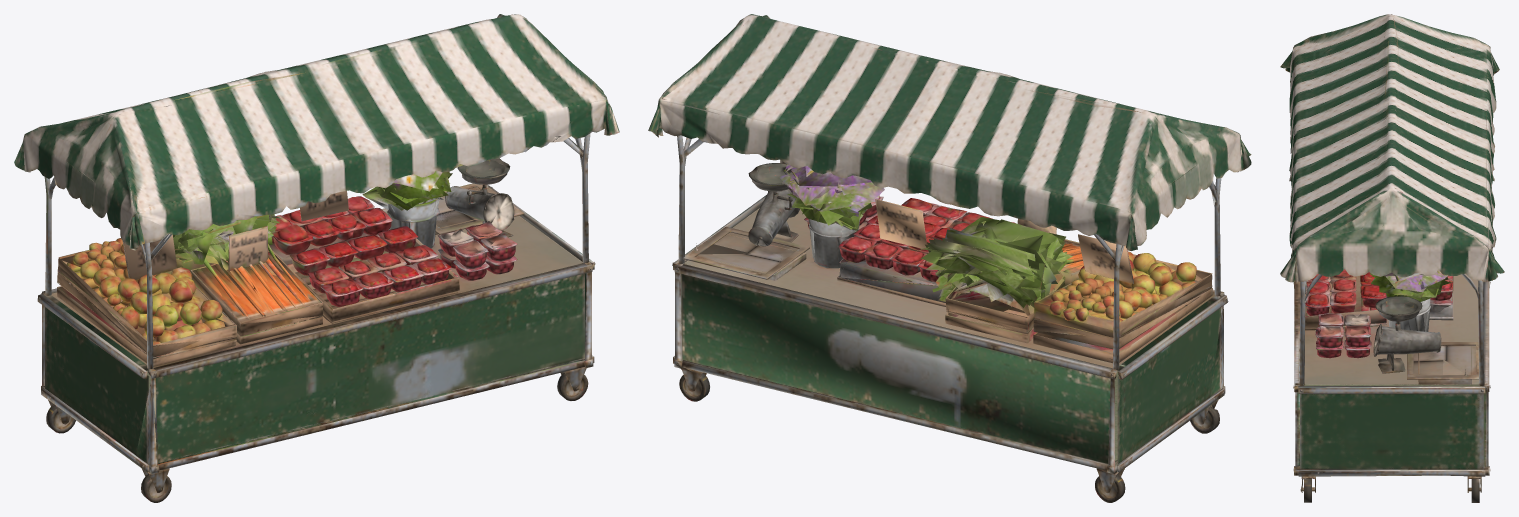
File: torikoju_vihannekset_vihrea_meshy.glb
The picture shows the model from 3 angles, left to right: view 1: azimuth 30°, elevation 25°; view 2: azimuth 150°, elevation 25°; view 3: azimuth 270°, elevation 25°; orthographic projection. The views are drawn at different scales.
Bounding box in the file's own units: 2.9 × 2 × 1.31.
1 material, 1 textured.
